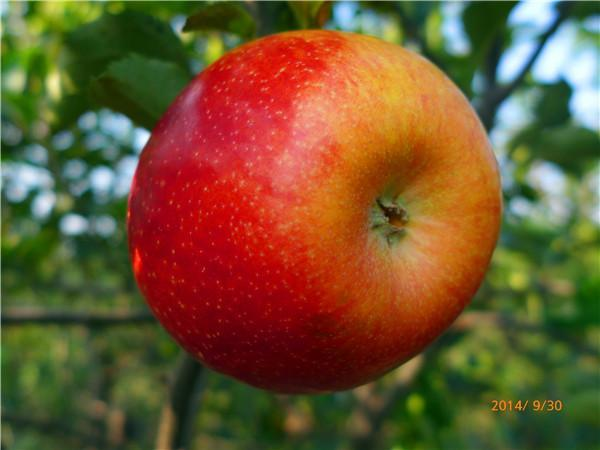apple: (125, 30, 501, 394)
